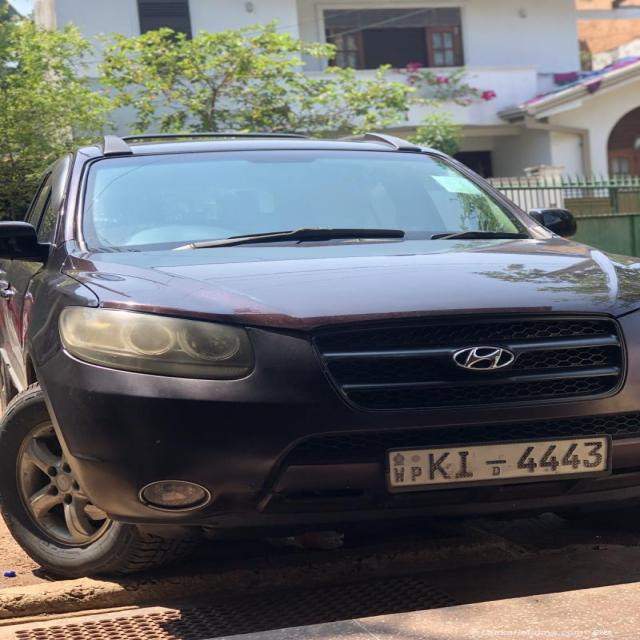license-plate: (390, 435, 607, 482)
